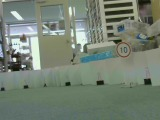speed_10: (115, 41, 132, 58)
